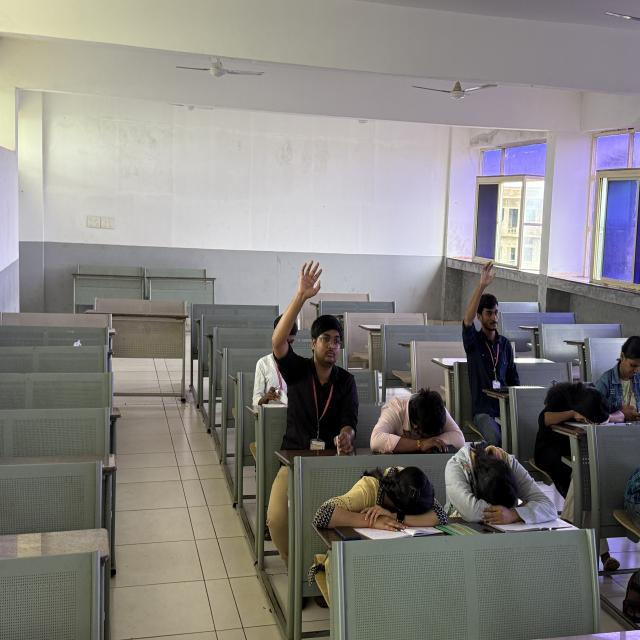Hand Rising: (273, 254, 356, 444), (460, 253, 514, 405)
Reading: (253, 309, 306, 414)
Sleeping: (306, 450, 456, 553), (436, 432, 568, 534), (364, 377, 471, 462), (526, 368, 631, 446)
Using Phone: (594, 329, 640, 446)
